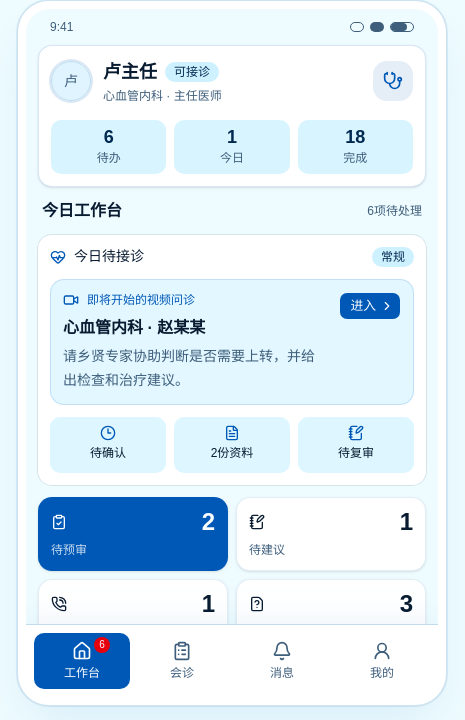
Test: ExpertView consultation detail › submits an expert confirmation and reflects operation sync in the list
This screenshot has width=465, height=720.
Click the button "会诊": (182, 661) [134, 633, 230, 689]
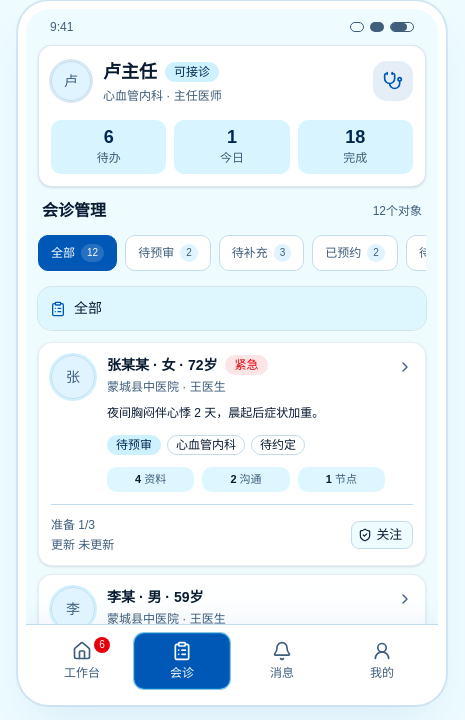
Click the button with test id "consultation-open-consult-20260712-101": (73, 377) [51, 355, 413, 492]
(page scrolled)
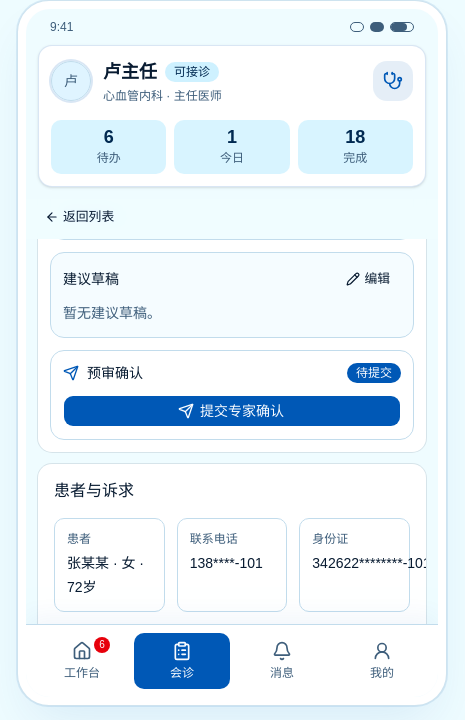
Expected: the text "已提交专家确认" is not shown
Expected: the button "提交专家确认" is shown
Click the button with test id "expert-submit-confirmation": (232, 411) [63, 395, 401, 427]
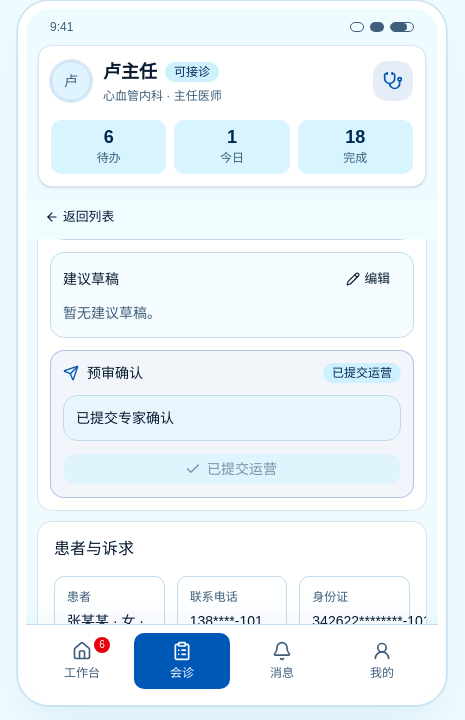
Expected: the text "已提交专家确认" is shown, [76, 410, 174, 426]
Click the button with test id "consultation-detail-back": (82, 217) [38, 203, 125, 231]
(page scrolled)
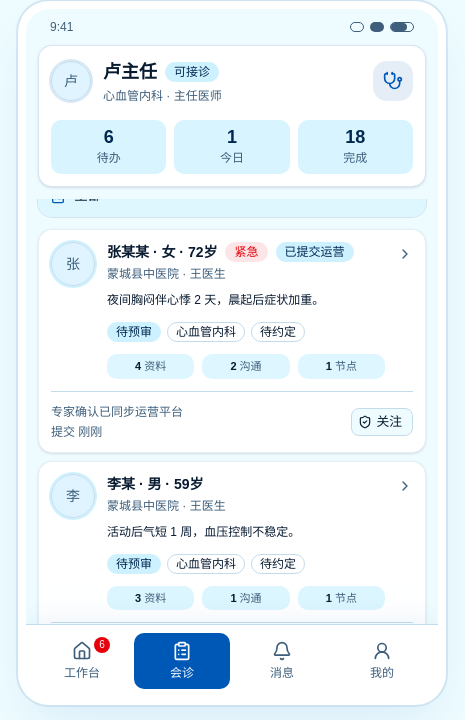
Expected: the text "已提交运营" is shown, [276, 242, 354, 262]
Expected: the text "专家确认已同步运营平台" is shown, [51, 404, 183, 420]
